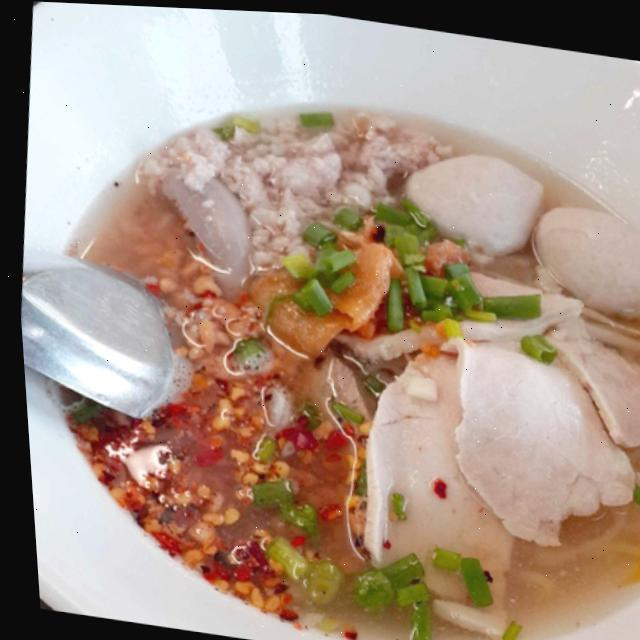猪肉菜式: (5, 21, 640, 640)
